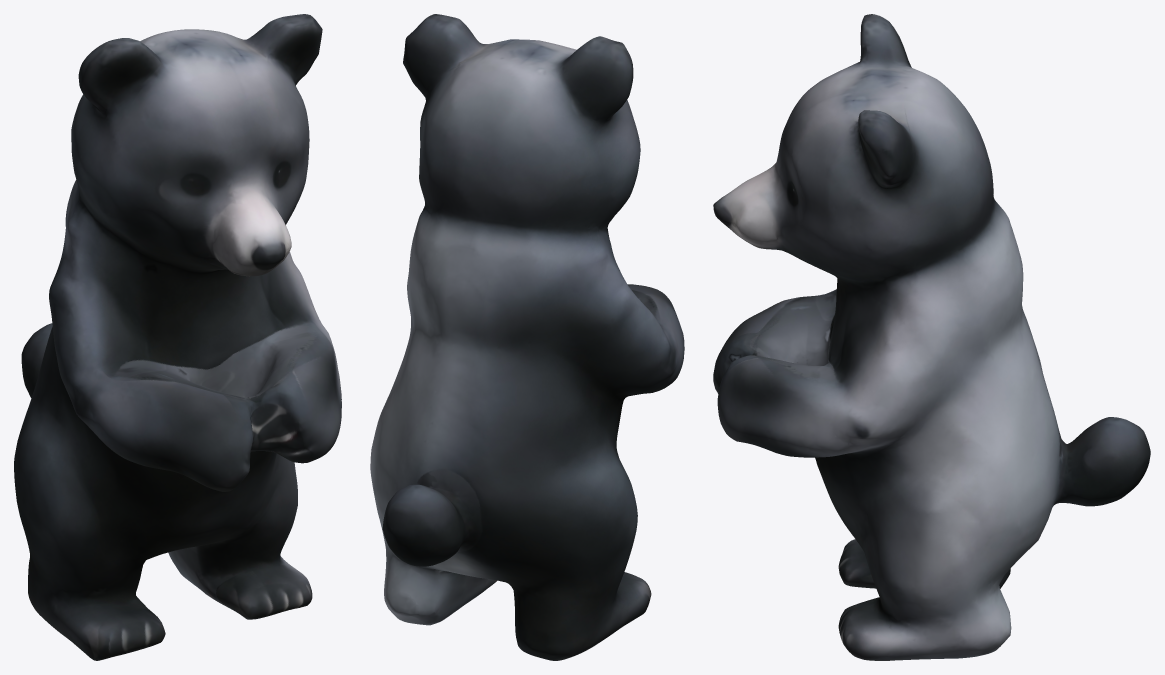
The model's file is Black_bear_0627205530.glb.
3 views of the same model, side by side, from view 1: azimuth 30°, elevation 25°; view 2: azimuth 150°, elevation 25°; view 3: azimuth 270°, elevation 25° (orthographic). The views are drawn at different scales.
Size of the model in its own units: 0.5392 by 1.2 by 0.833.
Materials: 1 (1 with a texture image).
